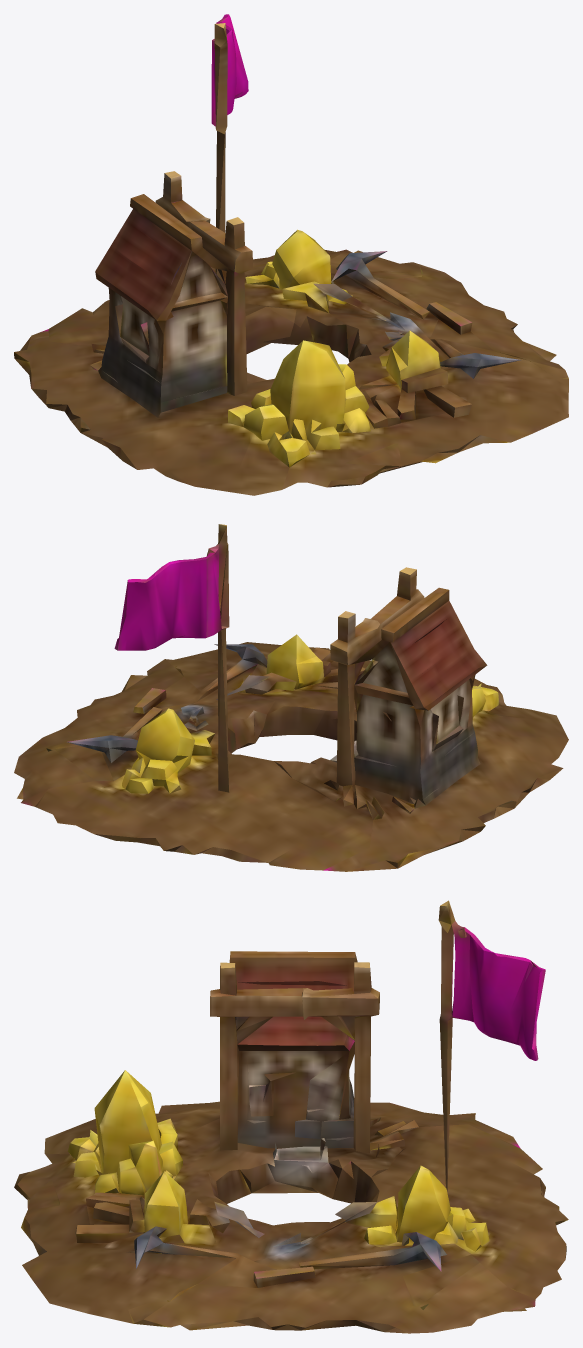
File: sulfur_mine.lod2.glb
3 renders of one model, top to bottom at view 1: azimuth 30°, elevation 25°; view 2: azimuth 150°, elevation 25°; view 3: azimuth 270°, elevation 25°, orthographic. The views are drawn at different scales.
Visible parts, largest first — view 1: sulfur_mine.lod2_uv; view 2: sulfur_mine.lod2_uv; view 3: sulfur_mine.lod2_uv.
Boxes of the visible parts, box(x1,y1,x2,y2) form: sulfur_mine.lod2_uv: box(14, 14, 568, 495); sulfur_mine.lod2_uv: box(14, 524, 568, 871); sulfur_mine.lod2_uv: box(14, 900, 568, 1333).
Bounding box in the file's own units: 1.86 × 1.2 × 1.9.
Materials: 1 (1 with a texture image).
